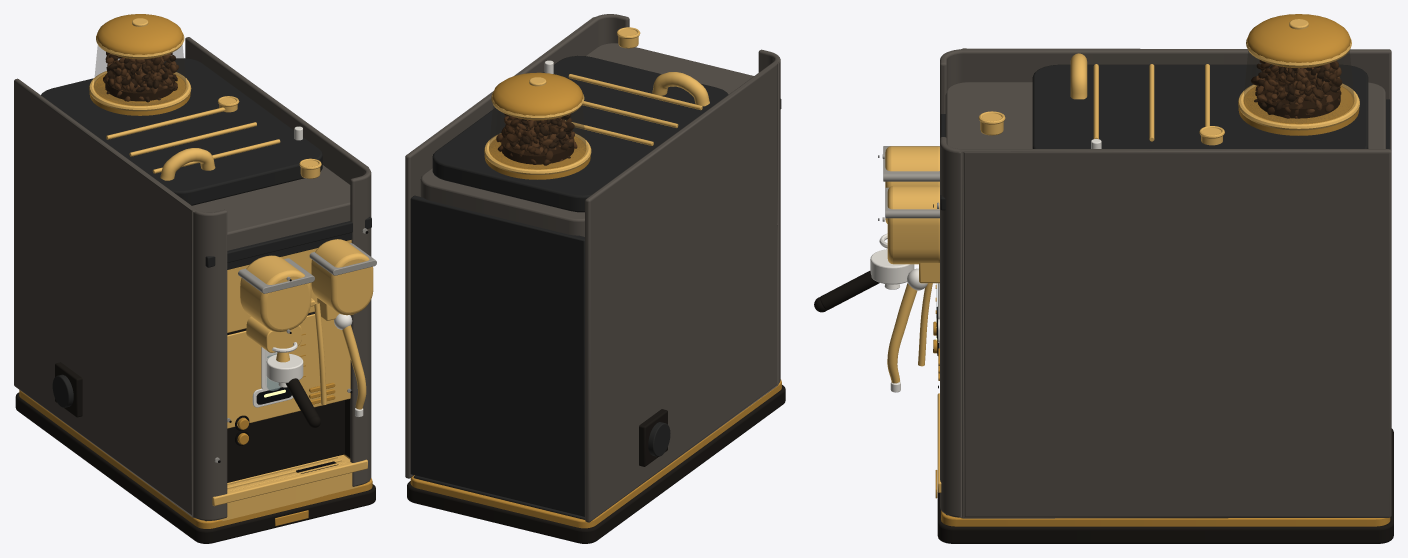
Rendered from machine.glb.
3 views of the same model, side by side, from view 1: azimuth 30°, elevation 25°; view 2: azimuth 150°, elevation 25°; view 3: azimuth 270°, elevation 25° (orthographic). The views are drawn at different scales.
Parts seen in each view (by area): view 1: Левая панель.001, Корона, Правая панель.001, Площадка, Нижняя плита, Стенка ниши, Цоколь, Стакан, Кожух группы, Кожух крана, Крышка, Лоток (+24 smaller); view 2: Левая панель.001, Задняя стенка, Корона, Площадка, Правая панель.001, Цоколь, Стакан, Золотая фаска, Крышка, Зёрна 2, Зёрна 3, Скоба (+10 smaller); view 3: Правая панель.001, Корона, Цоколь, Левая панель.001, Площадка, Стакан, Золотая фаска, Крышка, Кожух крана, Кожух группы, Зёрна 3, Зёрна 2 (+10 smaller).
Boxes of the visible parts, left/top/right/bottom form: Левая панель.001: left=14, top=78, right=227, bottom=520; Корона: left=41, top=58, right=322, bottom=205; Правая панель.001: left=185, top=37, right=371, bottom=486; Площадка: left=192, top=165, right=350, bottom=250; Нижняя плита: left=227, top=314, right=350, bottom=428; Стенка ниши: left=227, top=400, right=344, bottom=482; Цоколь: left=15, top=392, right=375, bottom=543; Стакан: left=94, top=45, right=186, bottom=105; Кожух группы: left=240, top=255, right=311, bottom=332; Кожух крана: left=311, top=239, right=373, bottom=315; Крышка: left=96, top=14, right=183, bottom=59; Лоток: left=219, top=455, right=359, bottom=520; Левая панель.001: left=585, top=49, right=780, bottom=522; Задняя стенка: left=410, top=195, right=584, bottom=516; Корона: left=432, top=55, right=728, bottom=212; Площадка: left=420, top=43, right=753, bottom=236; Правая панель.001: left=405, top=14, right=629, bottom=478; Цоколь: left=407, top=385, right=785, bottom=543; Стакан: left=489, top=105, right=585, bottom=168; Золотая фаска: left=410, top=379, right=781, bottom=528; Крышка: left=492, top=72, right=583, bottom=120; Зёрна 2: left=497, top=113, right=571, bottom=165; Зёрна 3: left=496, top=114, right=577, bottom=161; Скоба: left=652, top=72, right=709, bottom=106; Правая панель.001: left=940, top=137, right=1391, bottom=518; Корона: left=1032, top=64, right=1368, bottom=148; Цоколь: left=937, top=428, right=1393, bottom=543; Левая панель.001: left=940, top=48, right=1391, bottom=150; Площадка: left=945, top=82, right=1385, bottom=148; Стакан: left=1243, top=51, right=1353, bottom=123; Золотая фаска: left=941, top=510, right=1390, bottom=526; Крышка: left=1247, top=14, right=1350, bottom=68; Кожух крана: left=887, top=186, right=939, bottom=264; Кожух группы: left=885, top=146, right=939, bottom=223; Зёрна 3: left=1255, top=63, right=1341, bottom=118; Зёрна 2: left=1259, top=60, right=1342, bottom=118.
Size of the model in its own units: 0.225 by 0.4535 by 0.5007.
